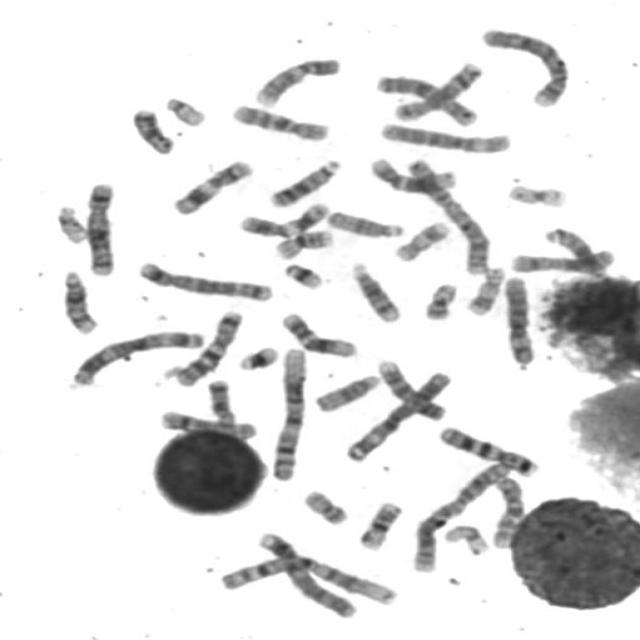A1: (218, 549, 402, 607), (266, 343, 310, 482)
A2: (407, 457, 515, 574), (402, 154, 495, 276)
A3: (340, 366, 454, 464), (65, 326, 208, 388)
B4: (252, 526, 359, 620), (476, 22, 572, 109)
B5: (132, 256, 276, 303), (80, 176, 120, 278)
C10: (226, 99, 333, 143), (486, 470, 528, 550)
C11: (166, 155, 256, 216), (236, 198, 333, 238)
C12: (276, 307, 360, 360), (364, 152, 460, 195)
C6: (374, 117, 515, 155), (499, 270, 541, 368)
C7: (169, 305, 246, 388), (433, 421, 542, 478)
C8: (390, 57, 487, 122), (156, 406, 260, 442)
C9: (250, 52, 344, 108), (371, 354, 447, 422)
D13: (264, 154, 344, 209), (540, 224, 607, 277)
D14: (346, 257, 404, 324), (56, 266, 102, 336)
D15: (310, 370, 384, 414), (322, 204, 408, 240)
E16: (353, 496, 406, 552), (270, 224, 337, 261)
E17: (389, 215, 454, 263), (462, 262, 509, 317)
E18: (126, 104, 176, 155), (197, 377, 238, 431)
F19: (502, 178, 570, 208), (438, 520, 492, 556)
F20: (298, 485, 352, 526), (419, 278, 461, 322)
G21: (279, 258, 327, 291), (233, 342, 281, 372)
G22: (50, 200, 92, 245), (159, 91, 209, 127)
X: (371, 70, 481, 128), (506, 243, 617, 274)
